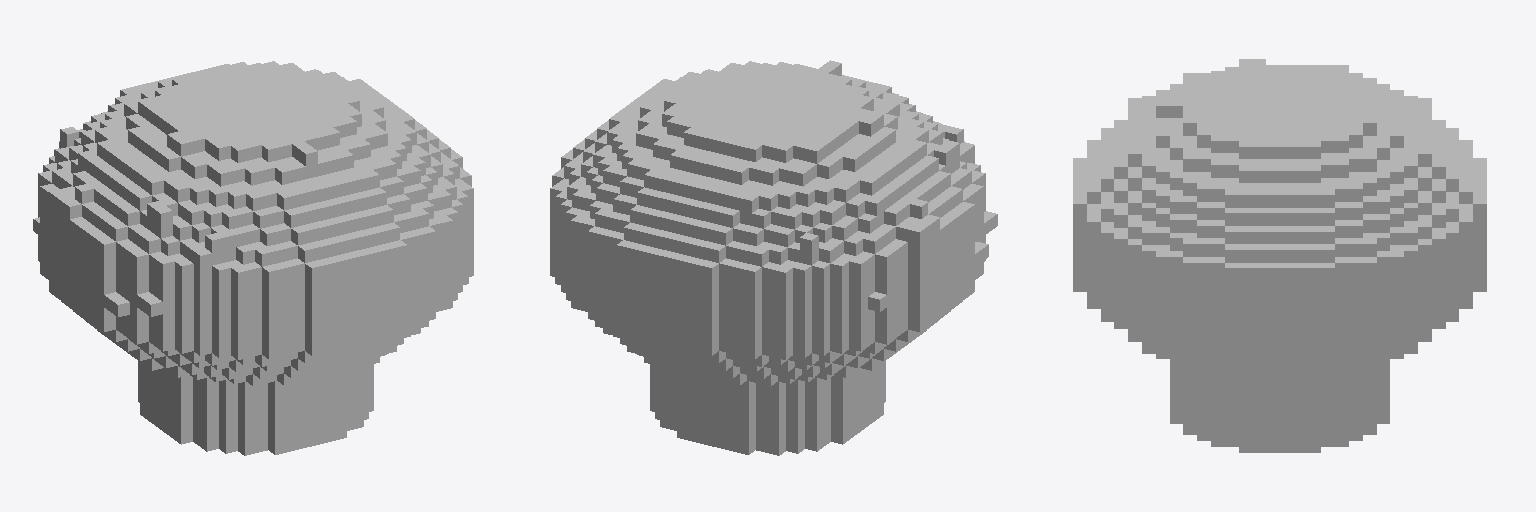
Rendered from Mushroom.obj.
3 views of the same model, side by side, from view 1: azimuth 30°, elevation 25°; view 2: azimuth 150°, elevation 25°; view 3: azimuth 270°, elevation 25° (orthographic).
Parts seen in each view (by area): view 1: object 1; view 2: object 1; view 3: object 1.
Boxes of the visible parts, box(x1,y1,x2,y2) form: object 1: box(33, 61, 473, 455); object 1: box(550, 60, 997, 455); object 1: box(1073, 59, 1486, 452).
Size of the model in its own units: 3 by 2.4 by 3.